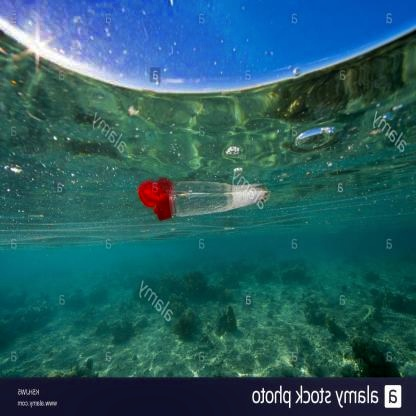pbottle: (130, 170, 268, 229)
